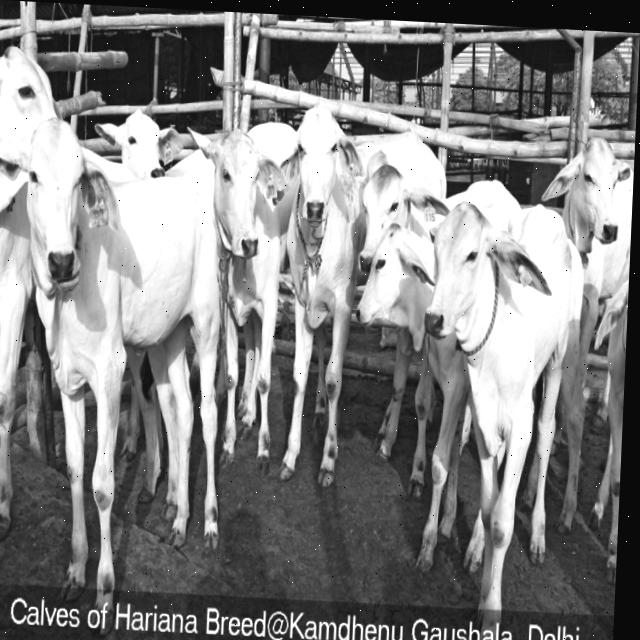Cow: (0, 35, 636, 640)
